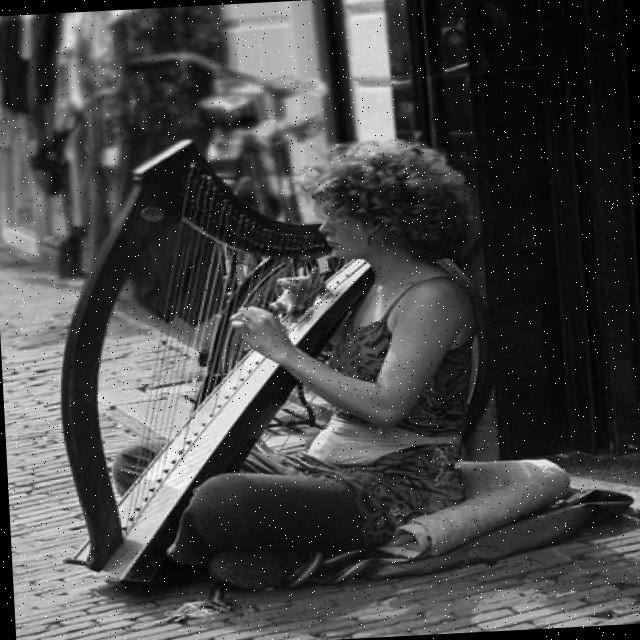harp: (41, 128, 392, 594)
